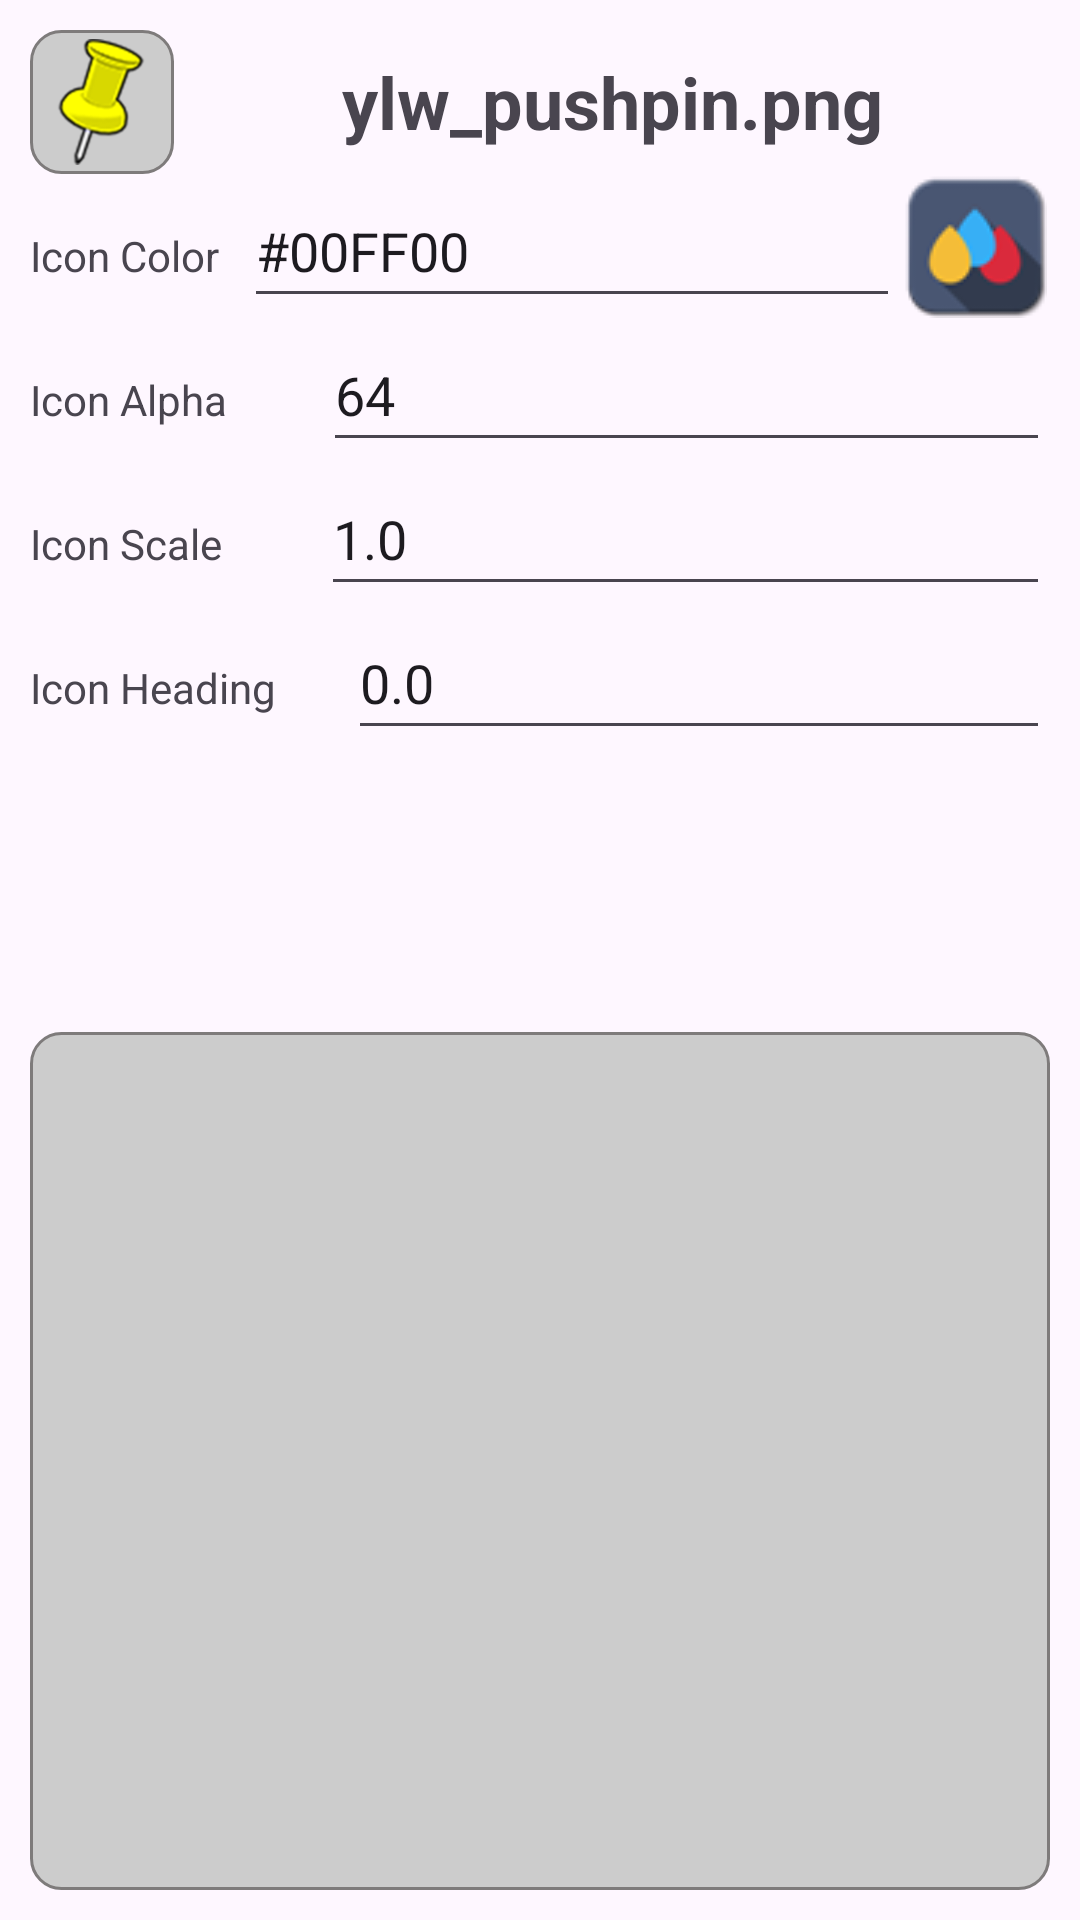

Screen size 1080 x 1920. Icon name, then its center in pixels as (x=x, y=y):
Icon Color: (x=976, y=248)
